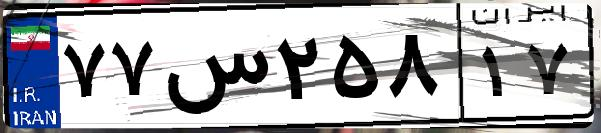1: (475, 38, 525, 113)
2: (270, 28, 330, 110)
5: (330, 28, 385, 110)
7: (57, 26, 110, 100), (525, 38, 570, 115), (110, 28, 158, 98)
8: (385, 28, 445, 110)
س: (158, 20, 270, 120)
